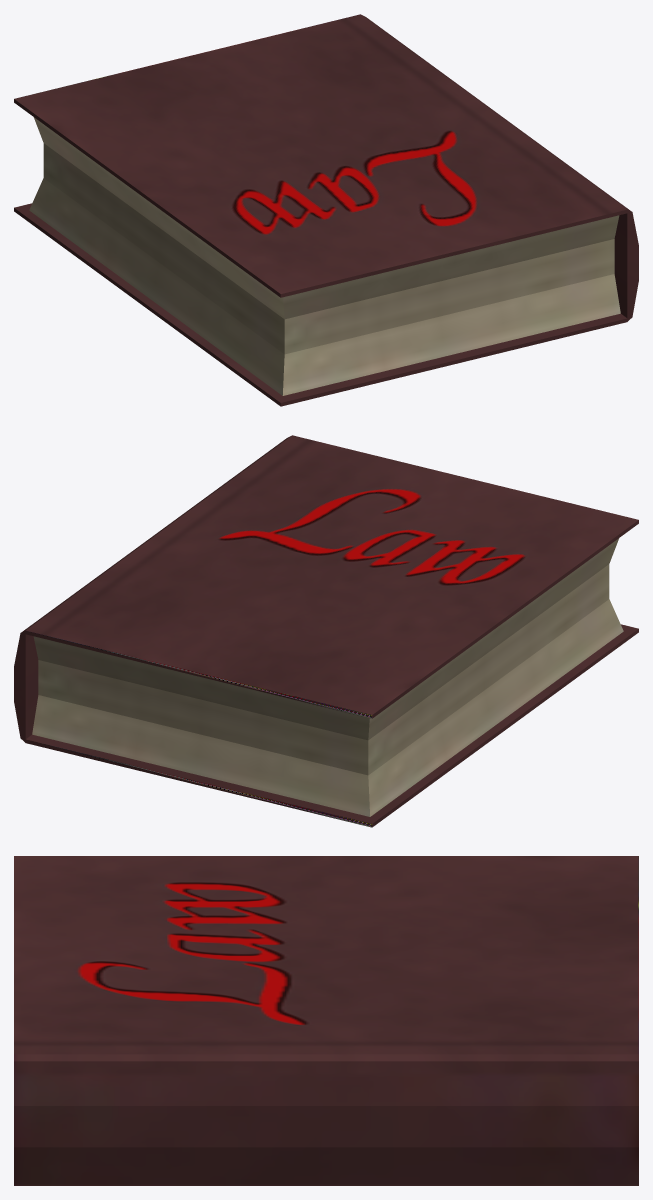
Rendered from lawbook.glb.
The picture shows the model from 3 angles, top to bottom: view 1: azimuth 30°, elevation 25°; view 2: azimuth 150°, elevation 25°; view 3: azimuth 270°, elevation 25°; orthographic projection. The views are drawn at different scales.
Parts seen in each view (by area): view 1: lawbook.001; view 2: lawbook.001; view 3: lawbook.001.
Boxes of the visible parts, <box> form: lawbook.001: <box>14,14,638,406</box>; lawbook.001: <box>14,435,638,827</box>; lawbook.001: <box>14,856,638,1185</box>.
Size of the model in its own units: 0.775 by 0.2326 by 1.
Materials: 2 (2 with a texture image).
